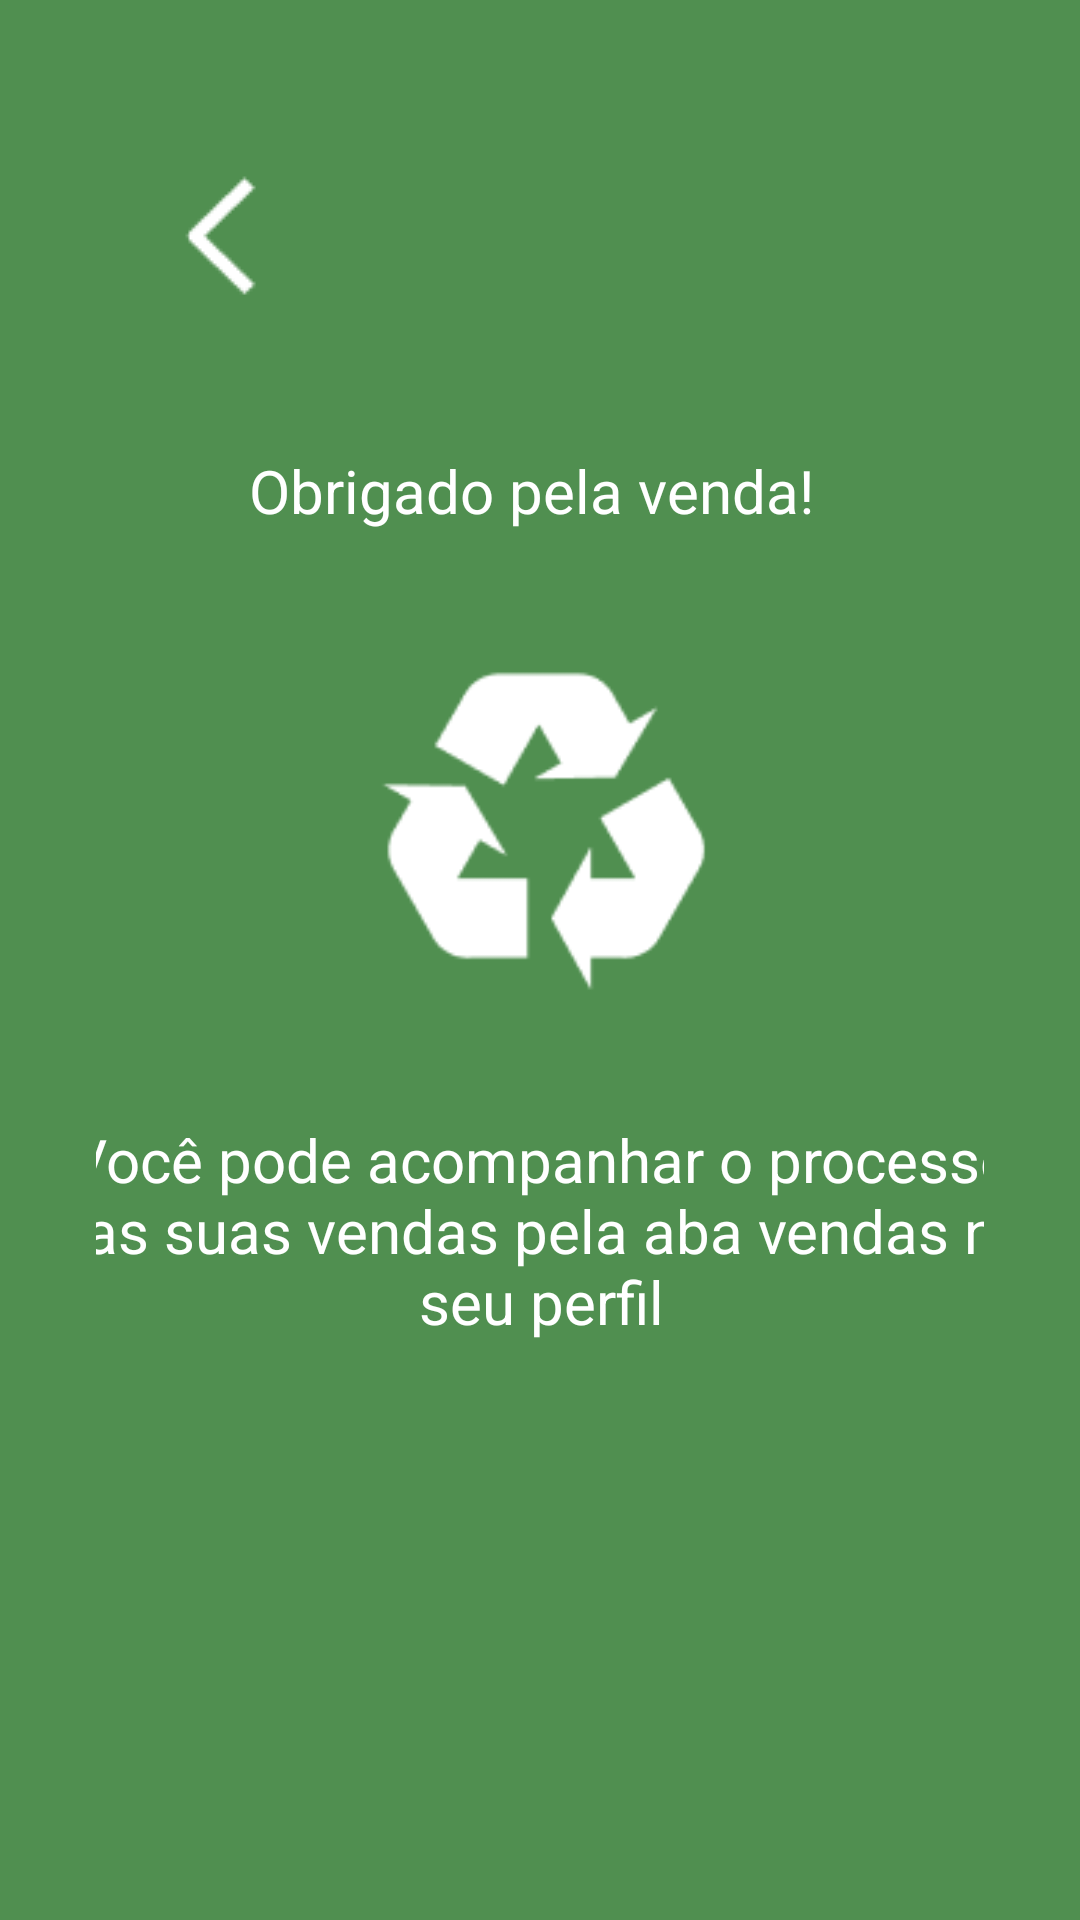

Point at icon controls on the screen. Image size 1080px x 1920px, points as (x,y).
reciclagem figma: (544,830)
Voltar: (221,236)
